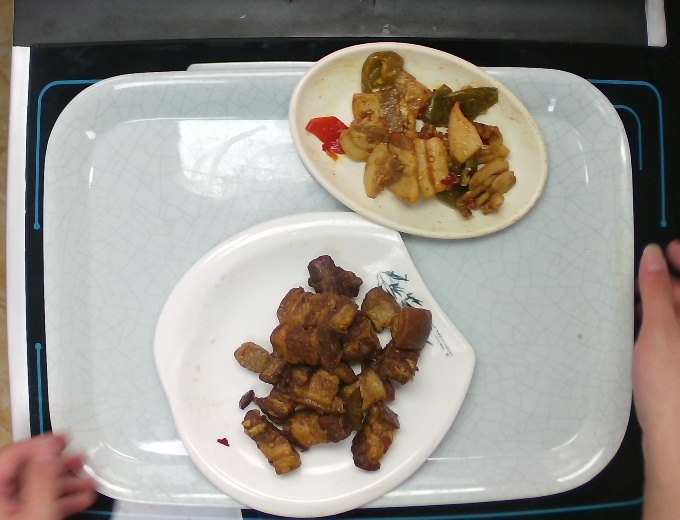JYsf-Mian_Pan: (153, 207, 478, 520)
JYsf-Tuo_Yuan_Wan: (283, 39, 552, 244)
